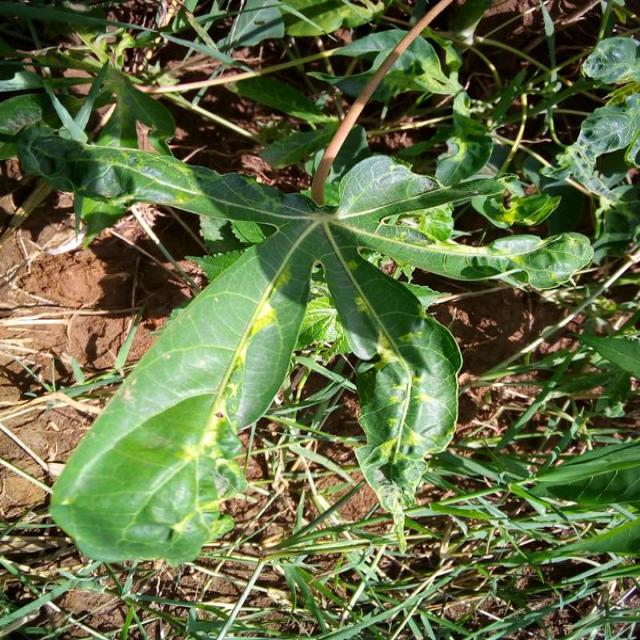cassava leaf: (46, 149, 592, 566), (47, 218, 321, 568)
